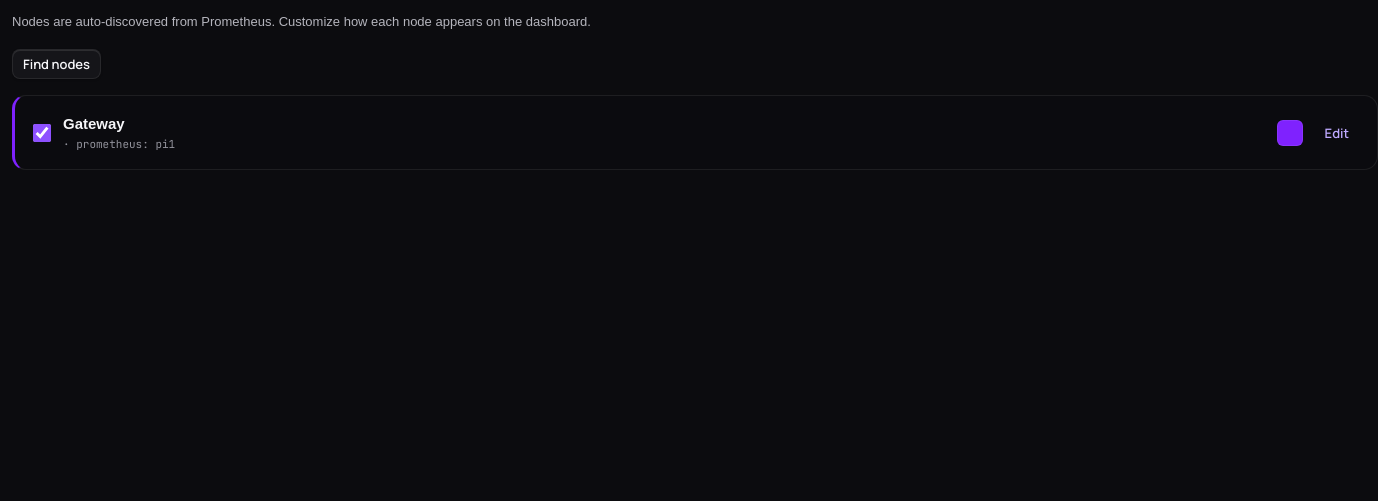
Scenario: NodesTab without an icon › has no Icon field, and draws no icon for a node that has one
Click the button "Edit": (1337, 133) [1315, 118, 1359, 148]
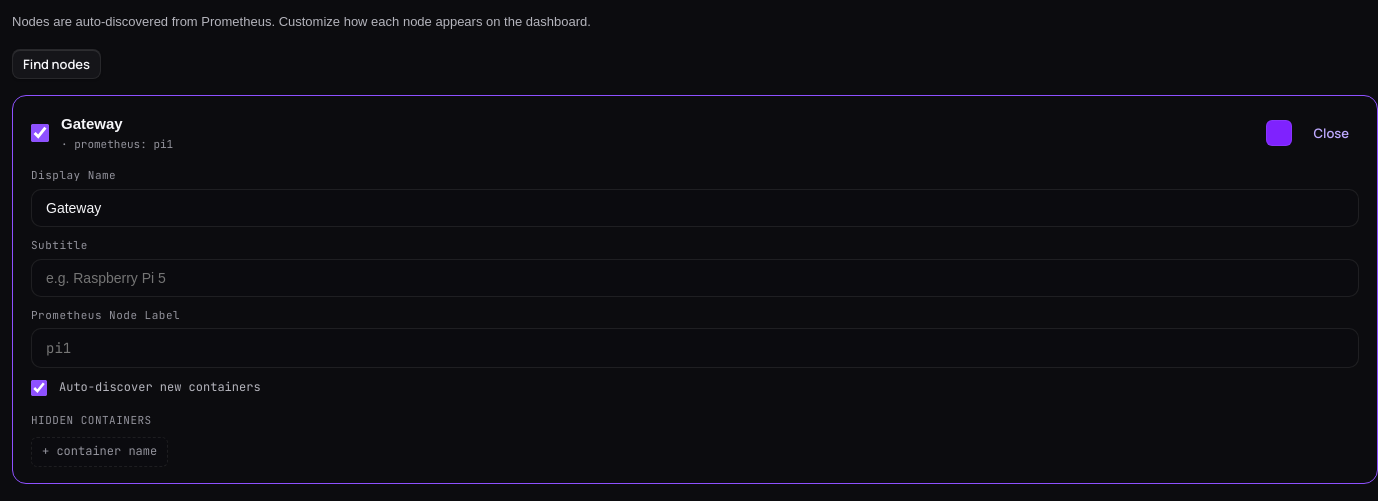
expect the text "Display Name" is shown: met, box [31, 168, 116, 182]
